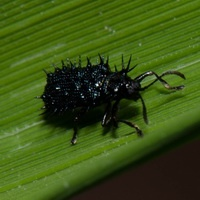insect: (40, 54, 185, 144)
